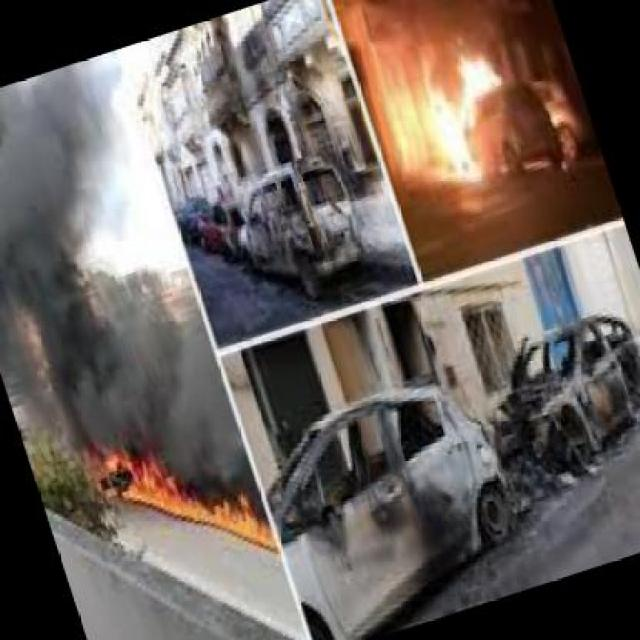fire: (77, 390, 274, 598), (411, 17, 589, 205)
